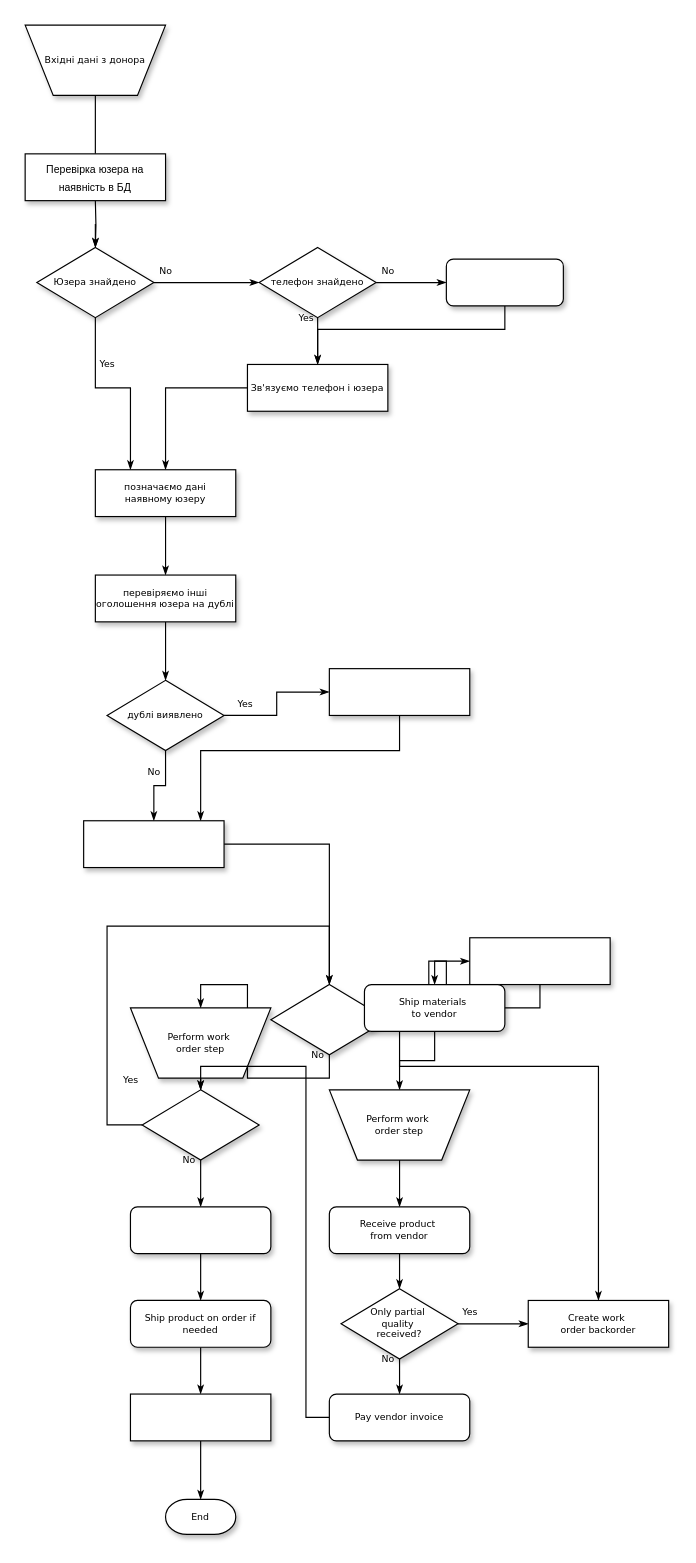
This 696x1563 diagram has some shape labels left out. Here are the shapes that lost their labels. From the top down, the centre of each, then its label:
At [505,283]: "Створити новий телефон в Бд".
At [400,693]: "Долаємо до наявного оголошення статус дубльовано".
At [154,845]: "Change status to In Process".
At [540,962]: "Add or adjust vendor costs".
At [330,1021]: "Step performed by outside vendor?".
At [201,1126]: "Additional processing required?".
At [201,1231]: "Receive info stock".
At [201,1418]: "Change status to Complete".
